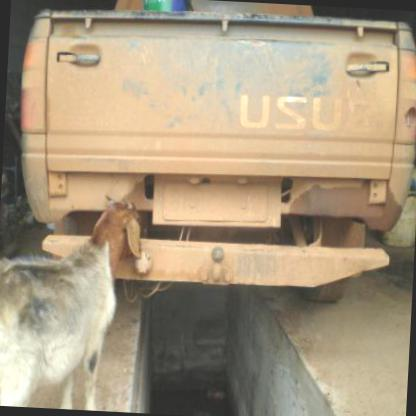car: (26, 0, 415, 266)
